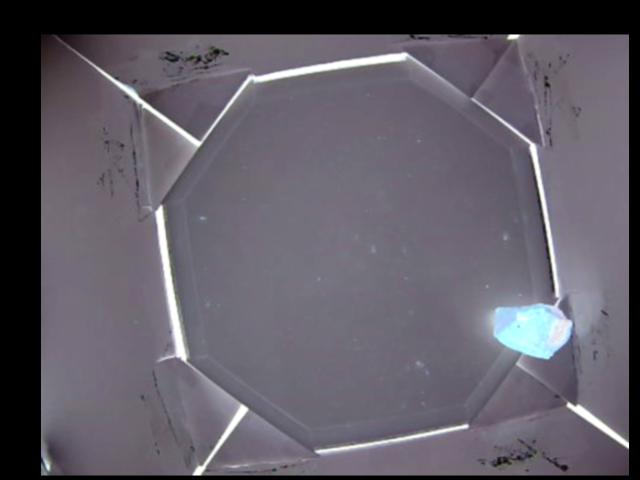Brisk: (493, 300, 574, 360)
